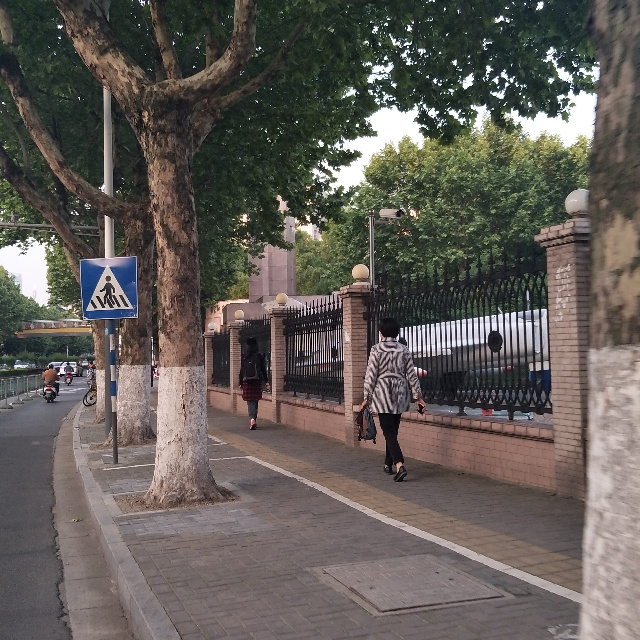crosswalk: (85, 260, 136, 319)
